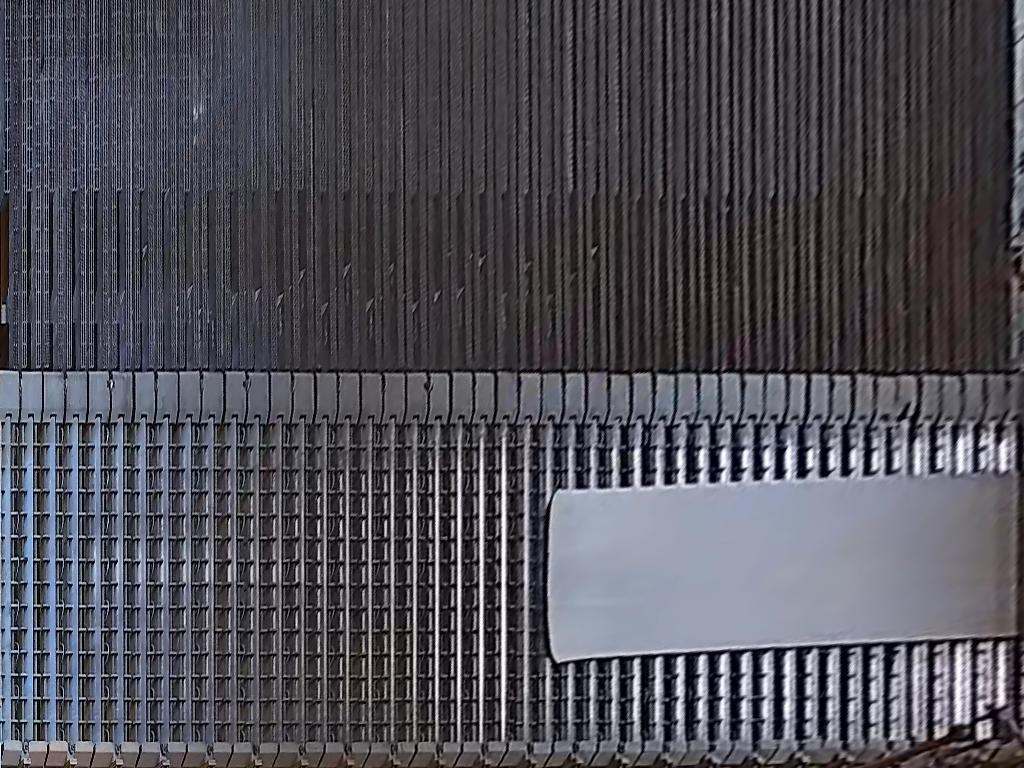steel: (548, 475, 1024, 665)
